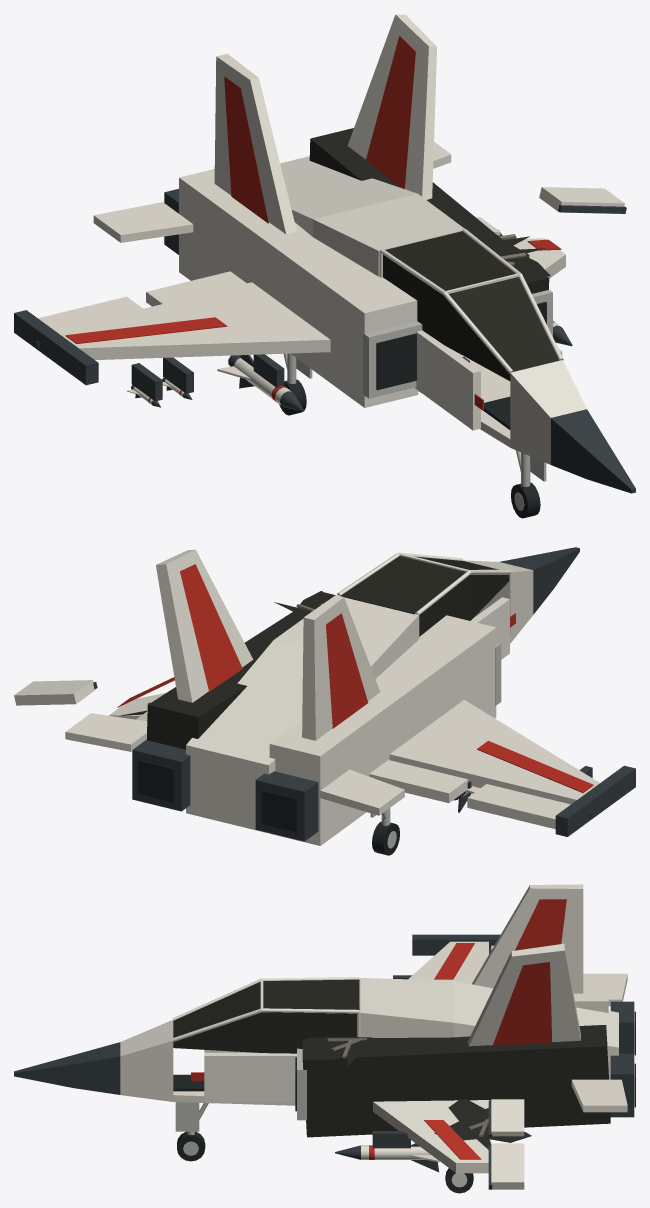
3 views of the same model, one above another, from view 1: azimuth 30°, elevation 25°; view 2: azimuth 150°, elevation 25°; view 3: azimuth 270°, elevation 25° (orthographic). The views are drawn at different scales.
Visible parts, largest first — view 1: jet-b-damaged-fleet-armor, jet-b-damaged-fleet-damage-charred, jet-b-damaged-fleet-red, jet-b-damaged-fleet-machine, elevator-left-fleet-armor, jet-b-damaged-fleet-rubber, jet-b-damaged-fleet-edge, aileron-right-painted, flap-left-painted, aileron-left-painted, store-left-large-painted, gear-wheel-nose-0-0-painted; view 2: jet-b-damaged-fleet-armor, jet-b-damaged-fleet-damage-charred, jet-b-damaged-fleet-machine, jet-b-damaged-fleet-red, aileron-left-painted, jet-b-damaged-fleet-rubber, flap-left-painted, elevator-left-fleet-armor, elevator-right-fleet-armor, aileron-right-painted, gear-wheel-left-0-0-painted; view 3: jet-b-damaged-fleet-armor, jet-b-damaged-fleet-damage-charred, jet-b-damaged-fleet-machine, jet-b-damaged-fleet-red, aileron-right-painted, elevator-right-fleet-armor, flap-right-painted, store-right-large-painted, landing-gear-nose-painted, jet-b-damaged-fleet-rubber, elevator-left-fleet-armor, gear-wheel-nose-0-0-painted (+3 smaller).
Boxes of the visible parts, x1=… form: jet-b-damaged-fleet-armor: x1=54, y1=14, x2=586, y2=464; jet-b-damaged-fleet-damage-charred: x1=309, y1=128, x2=559, y2=380; jet-b-damaged-fleet-red: x1=65, y1=36, x2=561, y2=410; jet-b-damaged-fleet-machine: x1=14, y1=189, x2=635, y2=493; elevator-left-fleet-armor: x1=93, y1=202, x2=193, y2=242; jet-b-damaged-fleet-rubber: x1=376, y1=302, x2=546, y2=429; jet-b-damaged-fleet-edge: x1=363, y1=290, x2=552, y2=398; aileron-right-painted: x1=539, y1=187, x2=626, y2=213; flap-left-painted: x1=146, y1=271, x2=246, y2=306; aileron-left-painted: x1=36, y1=296, x2=142, y2=348; store-left-large-painted: x1=217, y1=355, x2=304, y2=411; gear-wheel-nose-0-0-painted: x1=511, y1=482, x2=540, y2=518; jet-b-damaged-fleet-armor: x1=109, y1=549, x2=599, y2=845; jet-b-damaged-fleet-damage-charred: x1=120, y1=556, x2=509, y2=749; jet-b-damaged-fleet-machine: x1=132, y1=547, x2=635, y2=841; jet-b-damaged-fleet-red: x1=117, y1=564, x2=593, y2=792; aileron-left-painted: x1=467, y1=784, x2=592, y2=829; jet-b-damaged-fleet-rubber: x1=138, y1=760, x2=297, y2=832; flap-left-painted: x1=369, y1=760, x2=471, y2=803; elevator-left-fleet-armor: x1=320, y1=769, x2=404, y2=815; elevator-right-fleet-armor: x1=65, y1=713, x2=147, y2=751; aileron-right-painted: x1=14, y1=680, x2=97, y2=705; gear-wheel-left-0-0-painted: x1=372, y1=821, x2=399, y2=855; jet-b-damaged-fleet-armor: x1=120, y1=884, x2=618, y2=1173; jet-b-damaged-fleet-damage-charred: x1=173, y1=979, x2=610, y2=1149; jet-b-damaged-fleet-machine: x1=14, y1=934, x2=634, y2=1148; jet-b-damaged-fleet-red: x1=191, y1=899, x2=566, y2=1159; aileron-right-painted: x1=488, y1=1143, x2=524, y2=1189; elevator-right-fleet-armor: x1=571, y1=1079, x2=627, y2=1112; flap-right-painted: x1=488, y1=1099, x2=524, y2=1138; store-right-large-painted: x1=335, y1=1143, x2=439, y2=1172; landing-gear-nose-painted: x1=175, y1=1102, x2=208, y2=1134; jet-b-damaged-fleet-rubber: x1=173, y1=1011, x2=635, y2=1111; elevator-left-fleet-armor: x1=583, y1=973, x2=627, y2=1006; gear-wheel-nose-0-0-painted: x1=177, y1=1131, x2=205, y2=1161.
Size of the model in its own units: 62.19 by 31.35 by 69.47.
